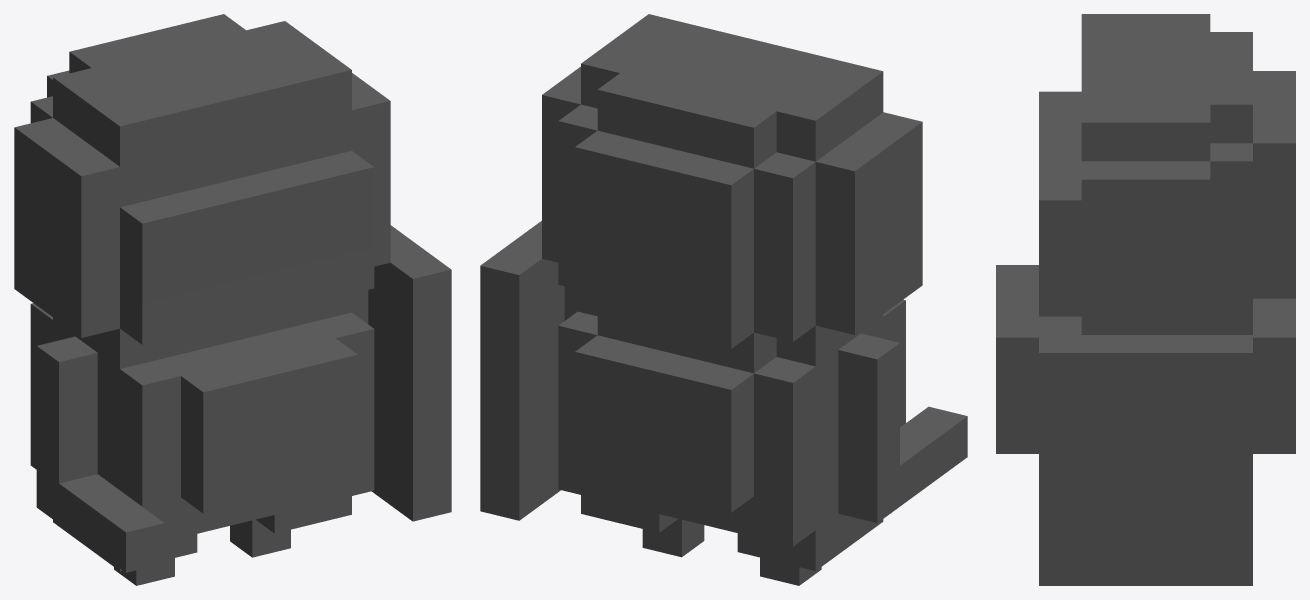
The model's file is chr_riotcop.obj.
3 views of the same model, side by side, from view 1: azimuth 30°, elevation 25°; view 2: azimuth 150°, elevation 25°; view 3: azimuth 270°, elevation 25° (orthographic). The views are drawn at different scales.
Bounding box in the file's own units: 9 × 12 × 7.
